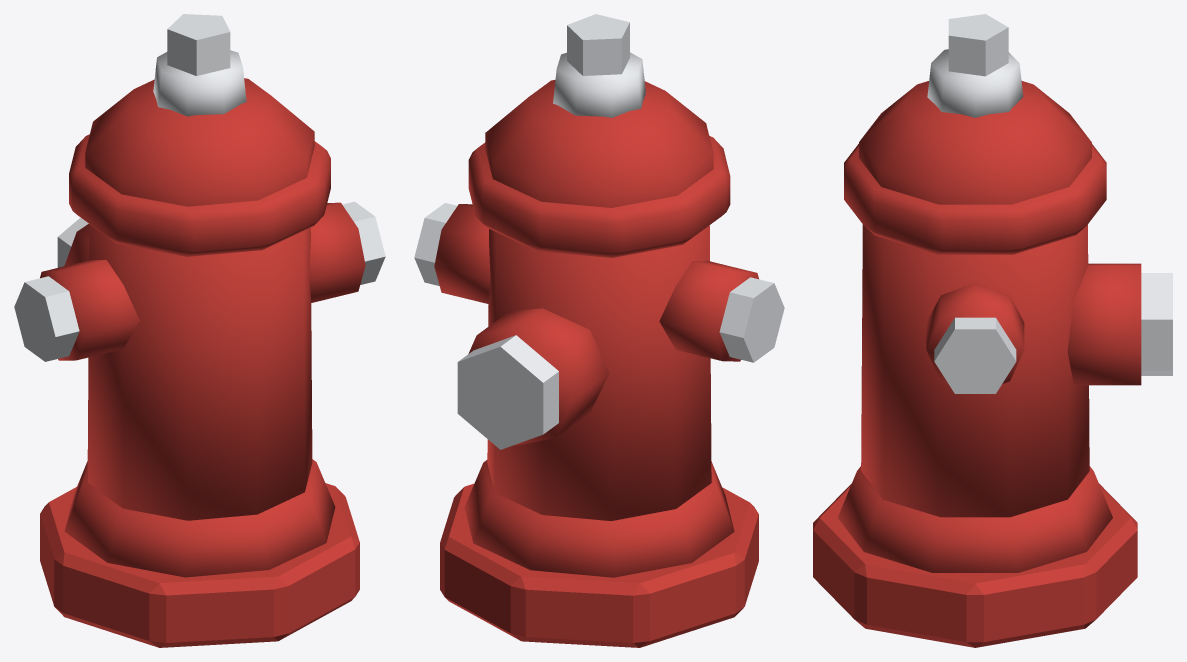
Rendered from prop_firehydrant.glb.
3 views of the same model, side by side, from view 1: azimuth 30°, elevation 25°; view 2: azimuth 150°, elevation 25°; view 3: azimuth 270°, elevation 25° (orthographic).
Visible parts, largest first — view 1: Prop_FireHydrant; view 2: Prop_FireHydrant; view 3: Prop_FireHydrant.
Part boxes in pixels (left/top/right/bottom): Prop_FireHydrant: left=14, top=14, right=385, bottom=647; Prop_FireHydrant: left=414, top=14, right=784, bottom=647; Prop_FireHydrant: left=813, top=14, right=1172, bottom=647.
Size of the model in its own units: 0.48 by 0.775 by 0.4554.
